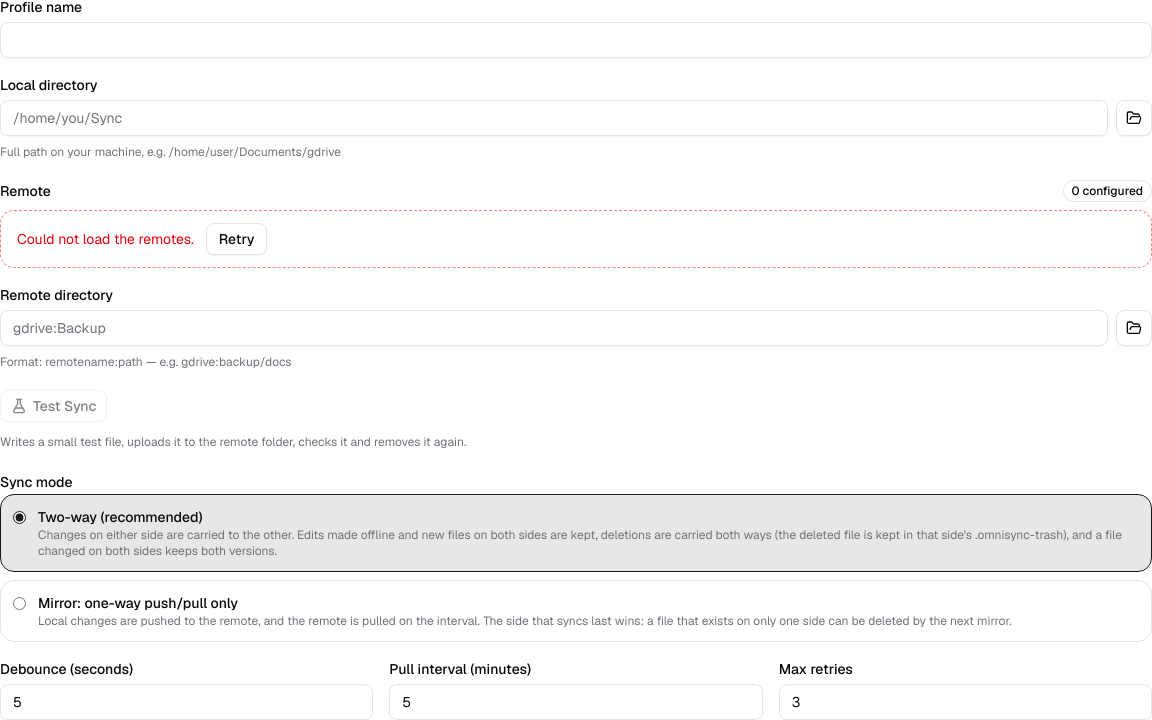
Test case: ProfileForm remotes › explains a failed remote list and retries it
Expected: the text "Could not load the remotes." is shown, left=17, top=229, right=194, bottom=249
Click the button "Retry". click: (237, 239)
box: left=206, top=223, right=267, bottom=255
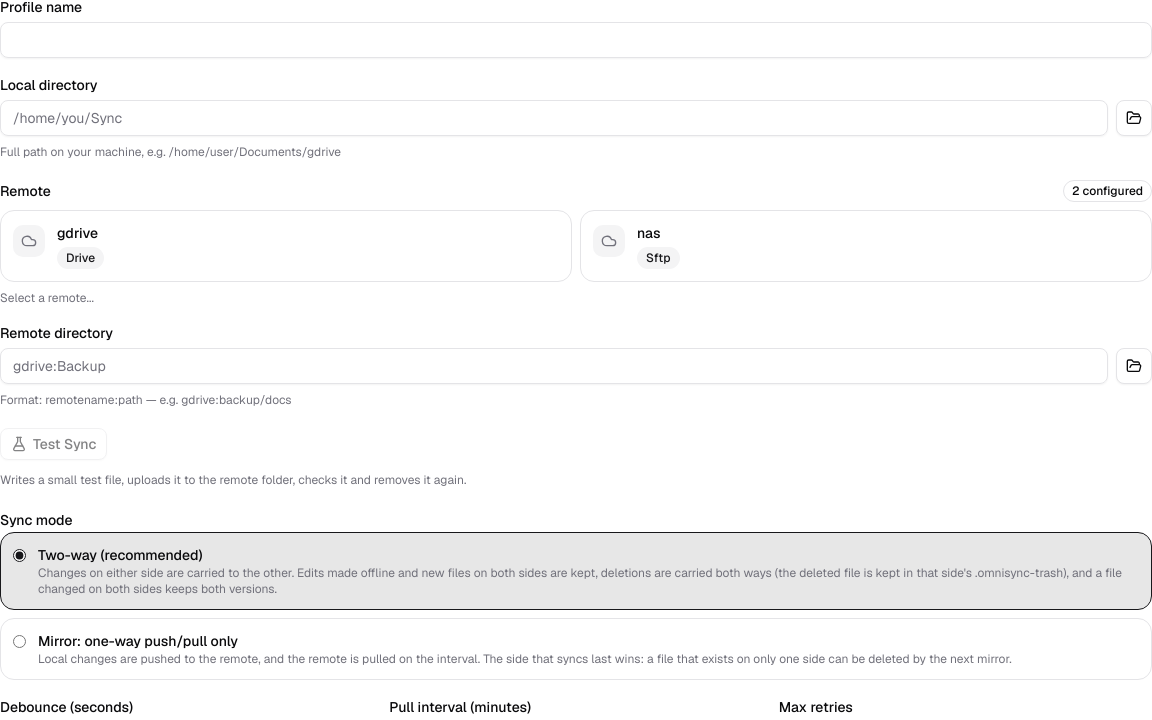
Result: the button "gdrive drive" is shown at left=0, top=210, right=572, bottom=282
